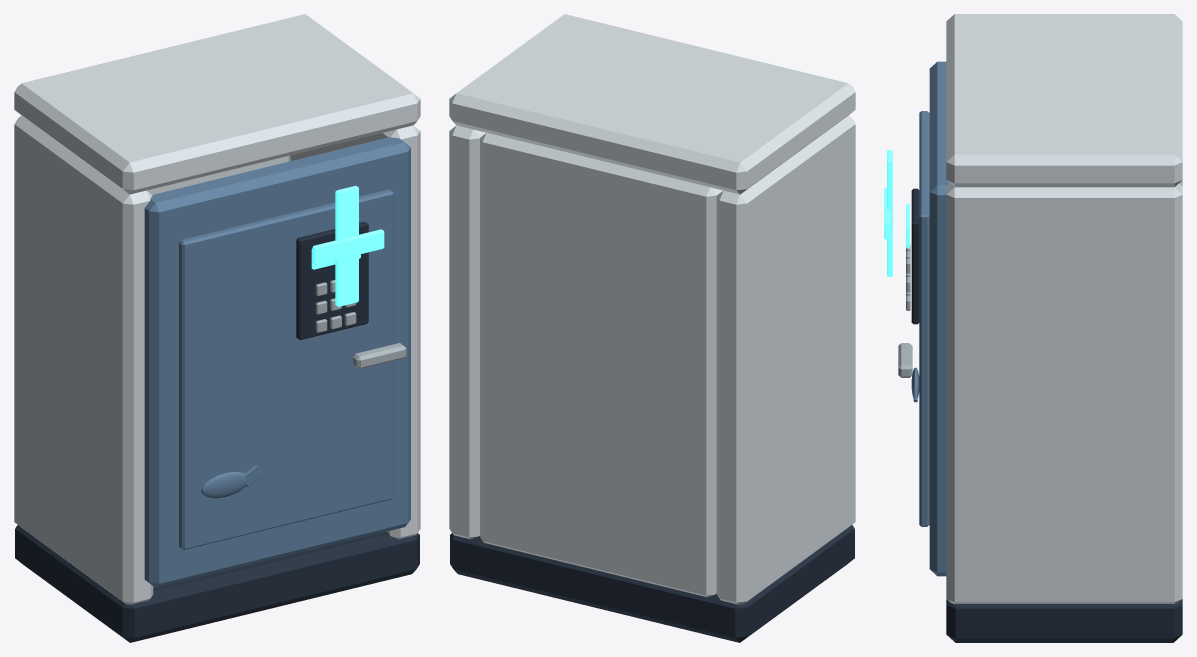
Rendered from safes_09.glb.
The picture shows the model from 3 angles, left to right: view 1: azimuth 30°, elevation 25°; view 2: azimuth 150°, elevation 25°; view 3: azimuth 270°, elevation 25°; orthographic projection.
Parts seen in each view (by area): view 1: Side (×2), InsetPanel, Top, DoorPanel, Base, KeypadPanel, MedicineCrossV, MedicineCrossH, Back, WhaleBody, Handle; view 2: Back, Side (×2), Top, Base; view 3: Side, Top, DoorPanel, Base, InsetPanel, KeypadPanel, MedicineCrossV, Handle.
Part boxes in pixels (x1,y1,x2,y2): Side (×2): (14,115,420,604); InsetPanel: (179,189,393,549); Top: (14,14,420,194); DoorPanel: (144,137,410,587); Base: (15,525,419,642); KeypadPanel: (296,221,368,339); MedicineCrossV: (335,185,358,306); MedicineCrossH: (312,229,384,265); Back: (147,155,290,194); WhaleBody: (201,472,246,498); Handle: (353,343,406,369); Back: (480,132,722,597); Side (×2): (449,115,855,604); Top: (449,14,855,194); Base: (450,525,854,642); Side: (946,183,1182,604); Top: (946,14,1182,187); DoorPanel: (929,61,949,576); Base: (946,599,1182,642); InsetPanel: (919,111,929,526); KeypadPanel: (911,188,919,324); MedicineCrossV: (887,150,892,276); Handle: (898,343,912,377).
Bounding box in the file's own units: 0.68 × 1.05 × 0.581.
